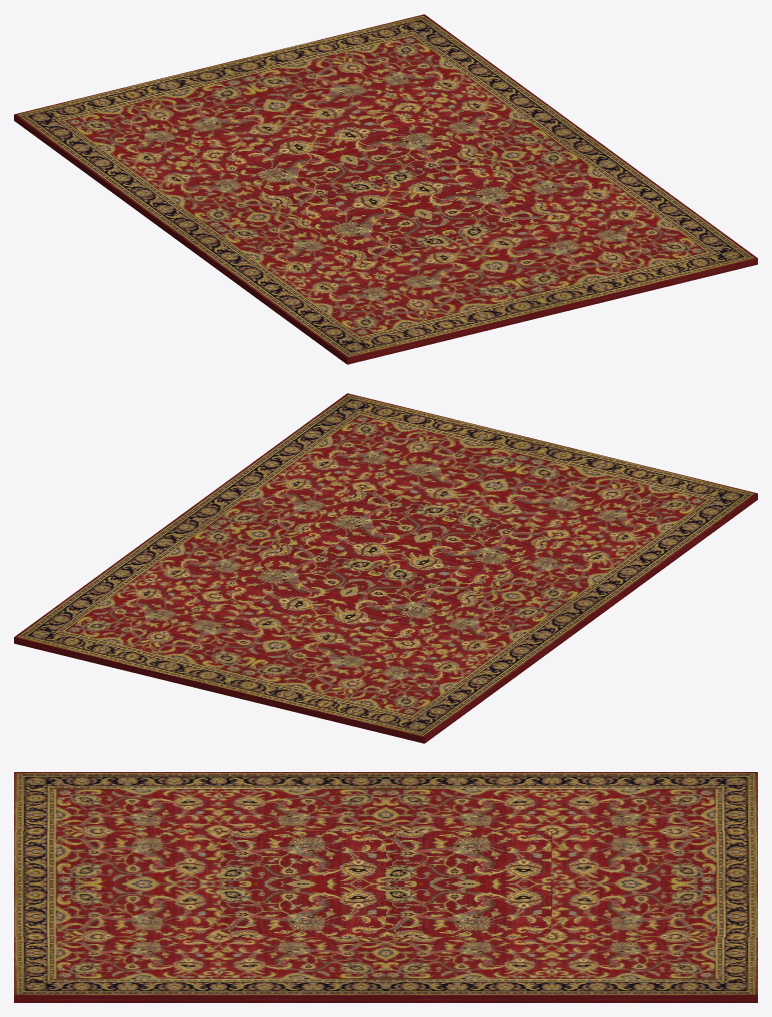
The model's file is Carpet_Wide.fbx.
3 views of the same model, one above another, from view 1: azimuth 30°, elevation 25°; view 2: azimuth 150°, elevation 25°; view 3: azimuth 270°, elevation 25° (orthographic). The views are drawn at different scales.
Parts seen in each view (by area): view 1: RugTiled.000; view 2: RugTiled.000; view 3: RugTiled.000.
Part boxes in pixels (<box>): RugTiled.000: <box>14,14,757,364</box>; RugTiled.000: <box>14,393,757,743</box>; RugTiled.000: <box>14,772,757,1002</box>.
Bounding box in the file's own units: 380 × 5.61 × 534.
